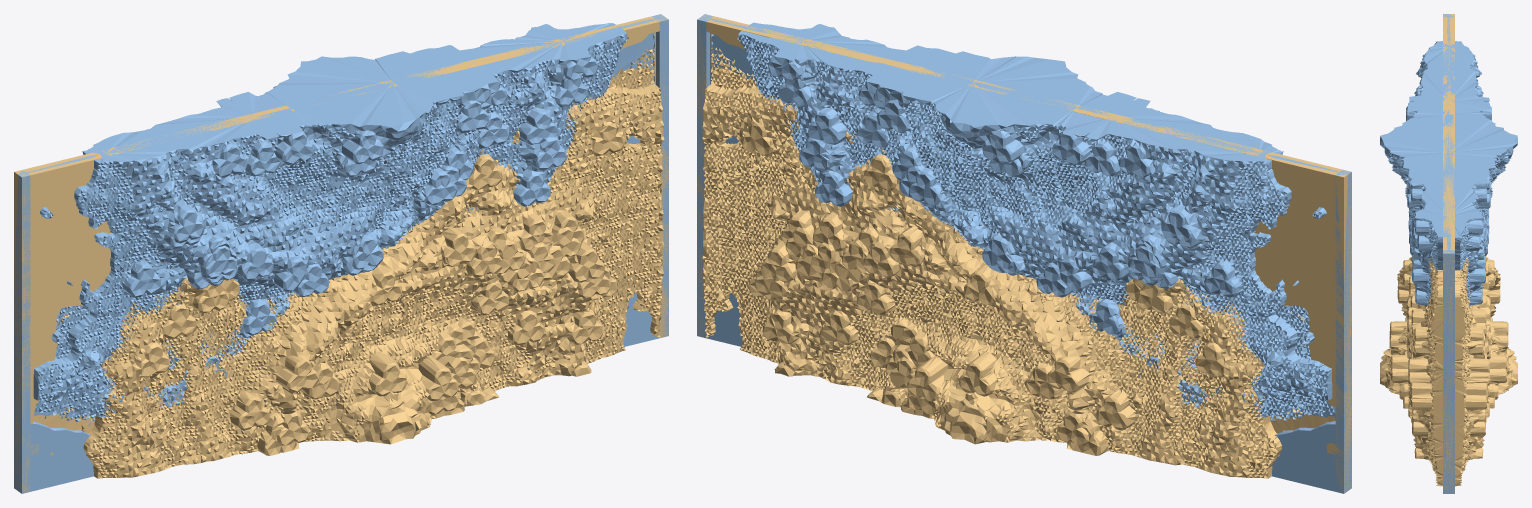
Rendered from whirlpool-nasa.glb.
3 renders of one model, left to right at view 1: azimuth 30°, elevation 25°; view 2: azimuth 150°, elevation 25°; view 3: azimuth 270°, elevation 25°, orthographic. The views are drawn at different scales.
Parts seen in each view (by area): view 1: Original structure 2, Original structure 1; view 2: Original structure 2, Original structure 1; view 3: Original structure 1, Original structure 2.
Boxes of the visible parts, x1,y1,x2,y2 form: Original structure 2: (14, 14, 668, 493); Original structure 1: (14, 14, 668, 493); Original structure 2: (697, 15, 1351, 493); Original structure 1: (697, 14, 1351, 493); Original structure 1: (1380, 14, 1517, 493); Original structure 2: (1380, 14, 1517, 493).
Size of the model in its own units: 242 by 113 by 58.87.
